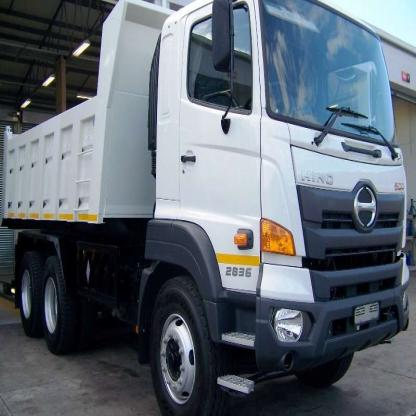dump_truck: (2, 1, 409, 412)
